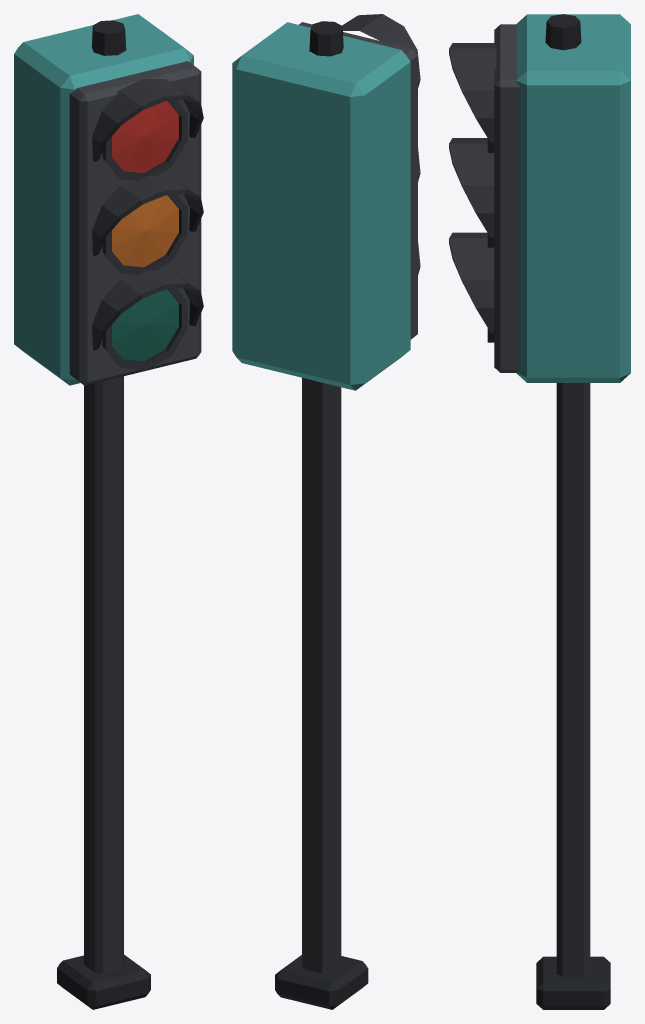
The model's file is traffic-light-5e5ae6.glb.
3 renders of one model, left to right at view 1: azimuth 30°, elevation 25°; view 2: azimuth 150°, elevation 25°; view 3: azimuth 270°, elevation 25°, orthographic.
Visible parts, largest first — view 1: traffic-light-body; view 2: traffic-light-body; view 3: traffic-light-body.
Part boxes in pixels (left/top/right/bottom): traffic-light-body: left=14, top=14, right=203, bottom=1009; traffic-light-body: left=232, top=14, right=420, bottom=1009; traffic-light-body: left=449, top=14, right=630, bottom=1009.
Size of the model in its own units: 0.46 by 3.19 by 0.539.
